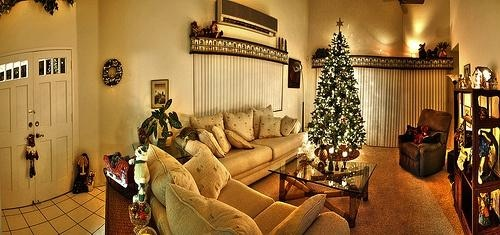chair: (397, 106, 450, 179)
sofa: (135, 147, 353, 235), (189, 104, 309, 189)
